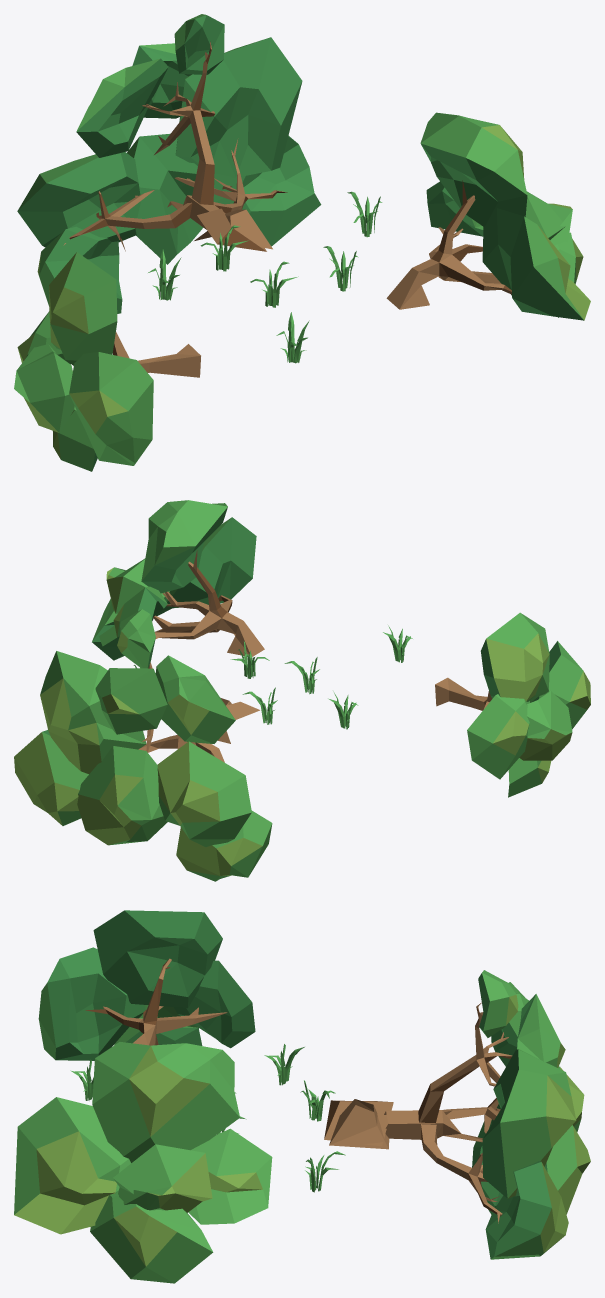
Rendered from tree-native-down.fbx.
The picture shows the model from 3 angles, top to bottom: view 1: azimuth 30°, elevation 25°; view 2: azimuth 150°, elevation 25°; view 3: azimuth 270°, elevation 25°; orthographic projection. The views are drawn at different scales.
Visible parts, largest first — view 1: Cube.004, Cube.001, Cube.003, Cube.002, Cube.005; view 2: Cube.004, Cube.001, Cube.003, Cube.002; view 3: Cube.001, Cube.004, Cube.003, Cube.005, Cube.002.
Part boxes in pixels (x1,y1,x2,y2): Cube.004: (17,14,321,313); Cube.001: (386,112,590,320); Cube.003: (14,252,200,471); Cube.002: (148,191,382,363); Cube.005: (194,209,272,249); Cube.004: (14,609,272,881); Cube.001: (92,500,264,660); Cube.003: (435,612,590,797); Cube.002: (133,625,412,729); Cube.001: (14,1042,272,1283); Cube.004: (324,970,590,1259); Cube.003: (38,910,255,1060); Cube.005: (329,1099,389,1149); Cube.002: (70,1044,345,1192).
Size of the model in its own units: 8428 by 4123 by 7580.
